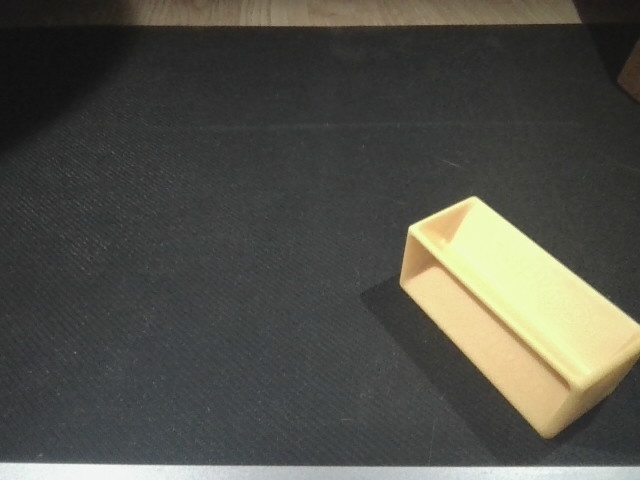YellowSample: (398, 192, 640, 448)
